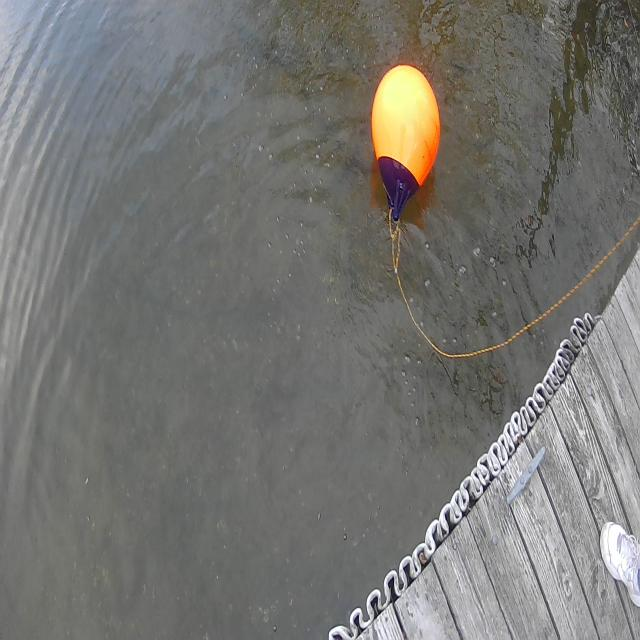Buoy: (365, 53, 447, 228)
